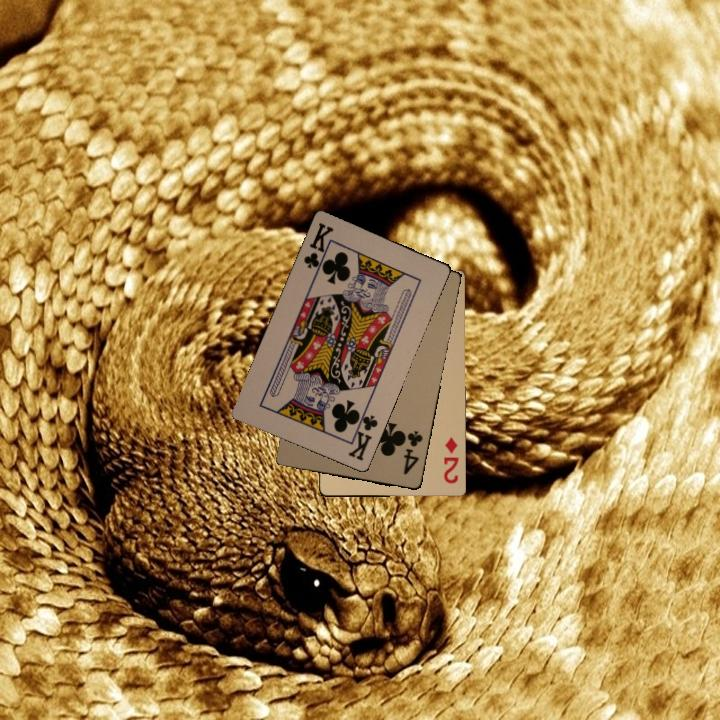2d: (440, 433, 461, 486)
4c: (398, 426, 425, 477)
Kc: (299, 218, 336, 276), (344, 405, 380, 463)
